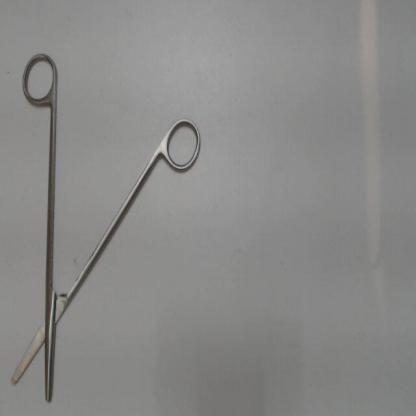9 Metzenbaum Scissors: (7, 48, 206, 407)
